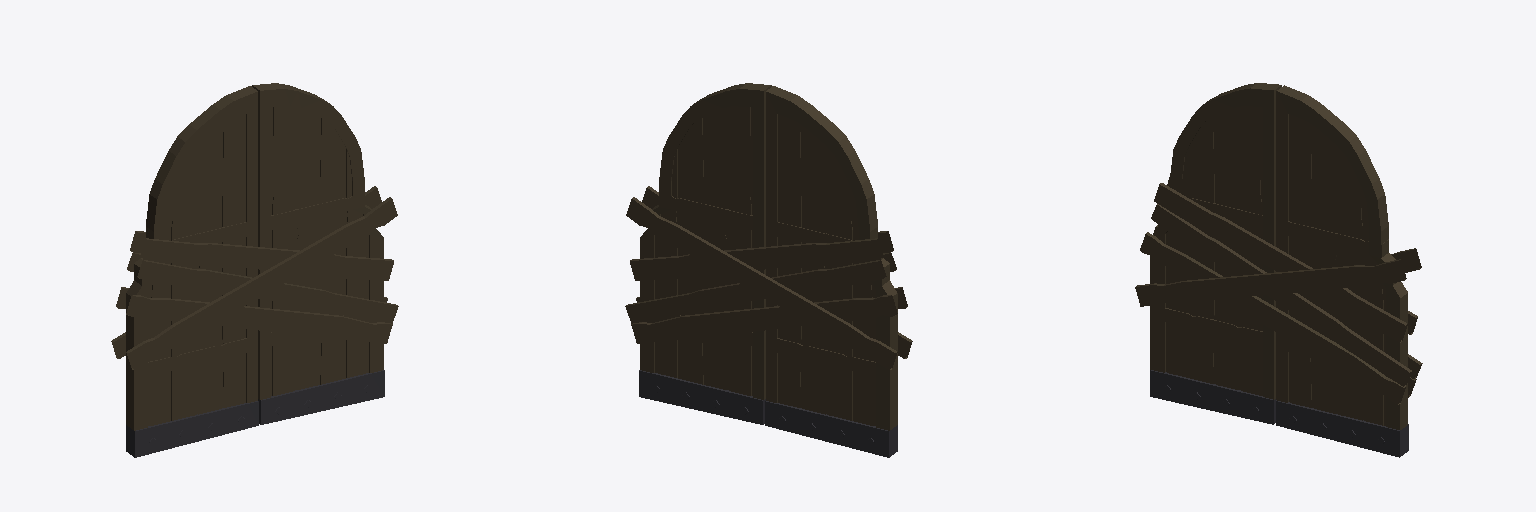
3 views of the same model, side by side, from view 1: azimuth 30°, elevation 25°; view 2: azimuth 150°, elevation 25°; view 3: azimuth 330°, elevation 25° (orthographic).
Visible parts, largest first — view 1: Doors_RoundArch_Covered_Cylinder.031; view 2: Doors_RoundArch_Covered_Cylinder.031; view 3: Doors_RoundArch_Covered_Cylinder.031.
Part boxes in pixels (x1,y1,x2,y2): Doors_RoundArch_Covered_Cylinder.031: (111, 83, 398, 457); Doors_RoundArch_Covered_Cylinder.031: (625, 83, 912, 457); Doors_RoundArch_Covered_Cylinder.031: (1135, 83, 1422, 457).
Bounding box in the file's own units: 2.52 × 2.97 × 0.2789.
Materials: 4 (2 with a texture image).